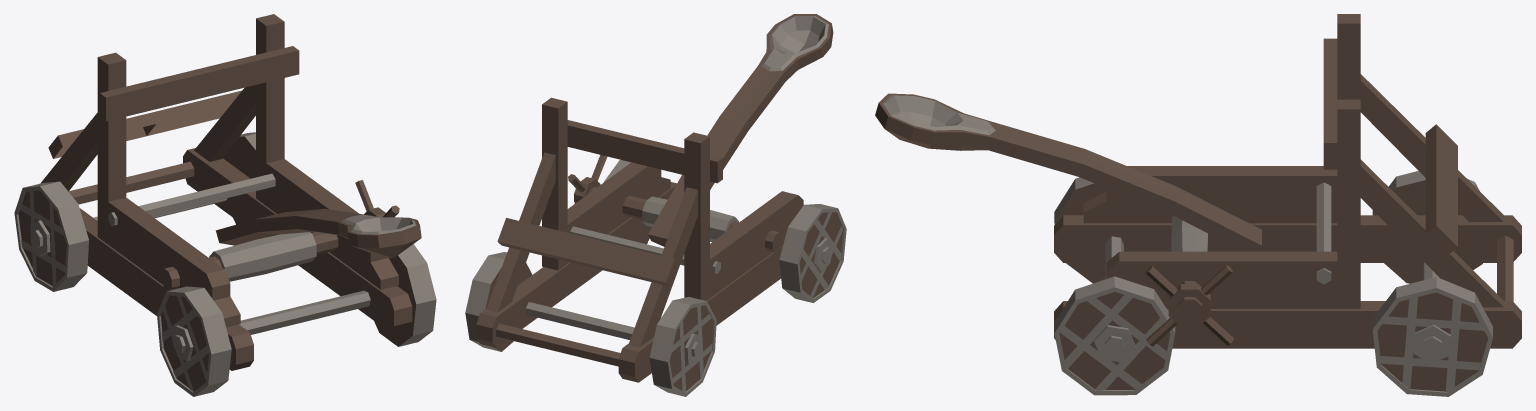
Rendered from catapult.fbx.
3 views of the same model, side by side, from view 1: azimuth 30°, elevation 25°; view 2: azimuth 150°, elevation 25°; view 3: azimuth 270°, elevation 25° (orthographic). The views are drawn at different scales.
Visible parts, largest first — view 1: catapult, catapult-wheels_front, catapult-wheels_back, catapult-projectile; view 2: catapult, catapult-wheels_back, catapult-projectile, catapult-wheels_front; view 3: catapult, catapult-wheels_back, catapult-projectile, catapult-wheels_front.
Part boxes in pixels (x1,y1,x2,y2): catapult: (40,14,412,370); catapult-wheels_front: (157,244,436,396); catapult-wheels_back: (14,132,255,291); catapult-projectile: (215,208,421,257); catapult: (476,97,803,382); catapult-wheels_back: (465,252,716,396); catapult-projectile: (648,14,833,246); catapult-wheels_front: (603,160,846,302); catapult: (1054,14,1521,348); catapult-wheels_back: (1372,171,1492,396); catapult-projectile: (875,93,1261,251); catapult-wheels_front: (1054,177,1175,395).
Size of the model in its own units: 264 by 257 by 549.
